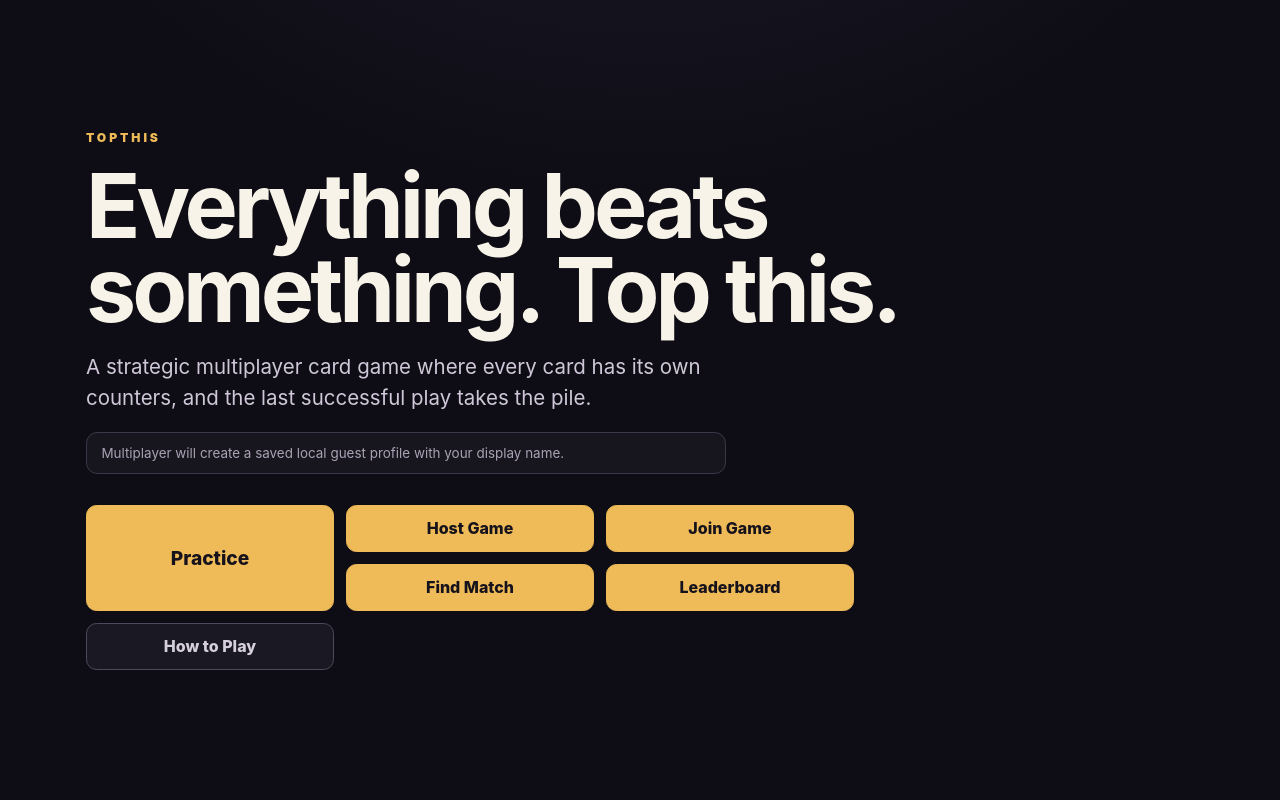
Test: TopThis matchmaking and leaderboard UI › renders six seats and deterministic pile layer transforms
(page scrolled)
Click the button "Practice": (210, 558) [86,505,334,611]
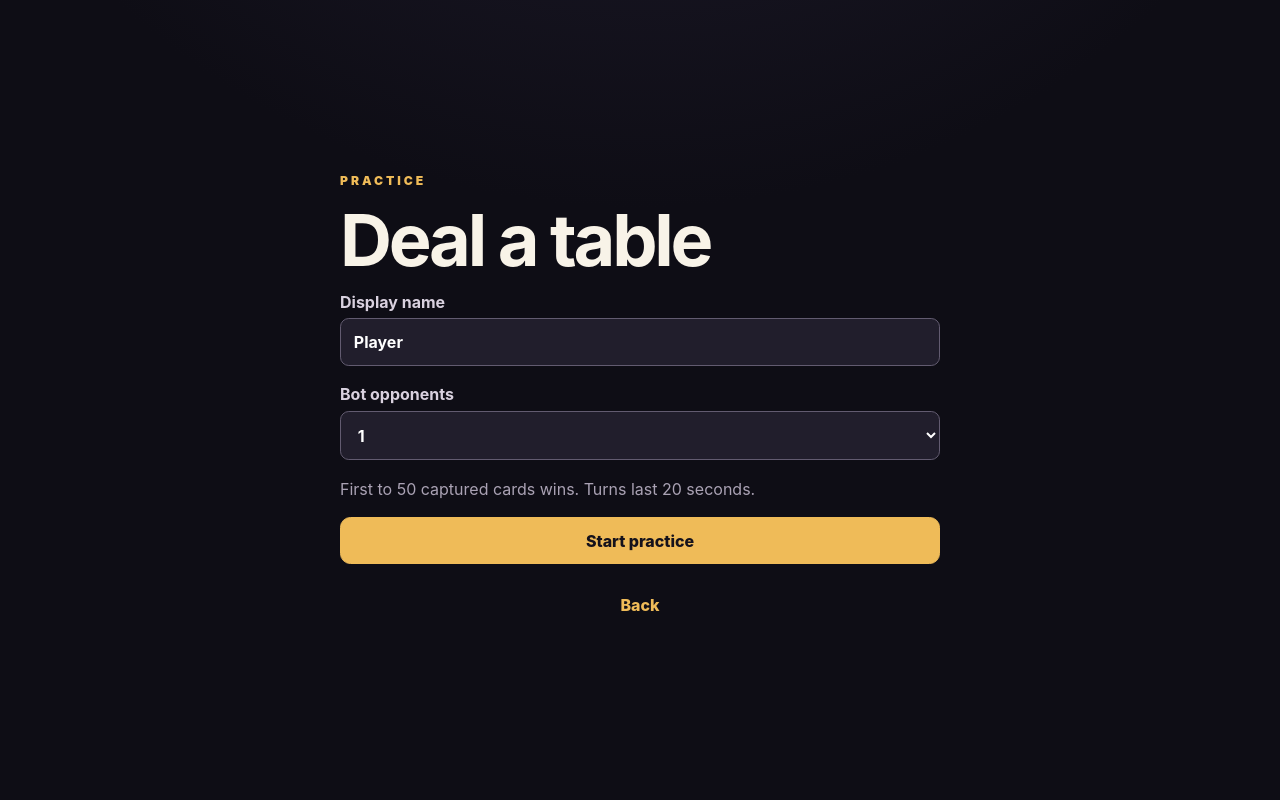
Replace the text in the field labelled "Display name" with "Ada": (640, 342) [340,318,940,366]
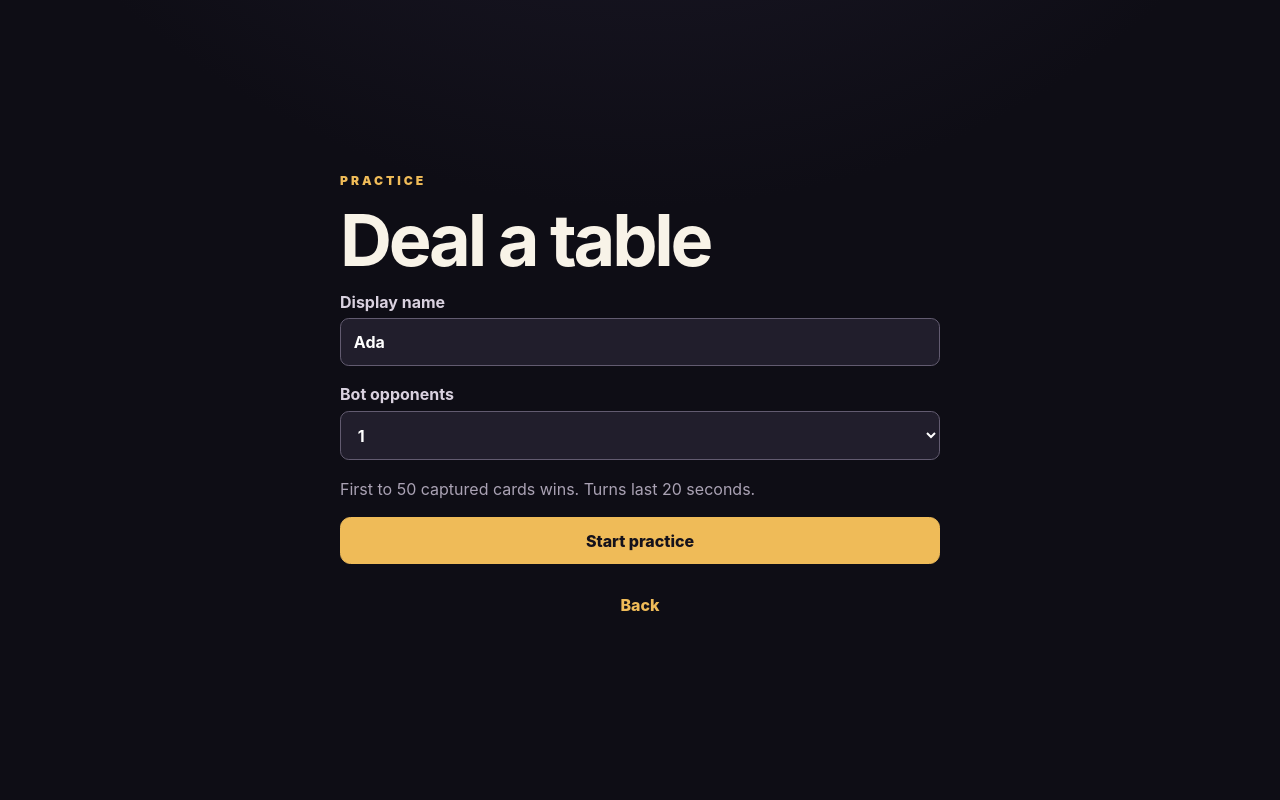
Click the button "Start practice": (640, 541) [340,517,940,564]
(page scrolled)
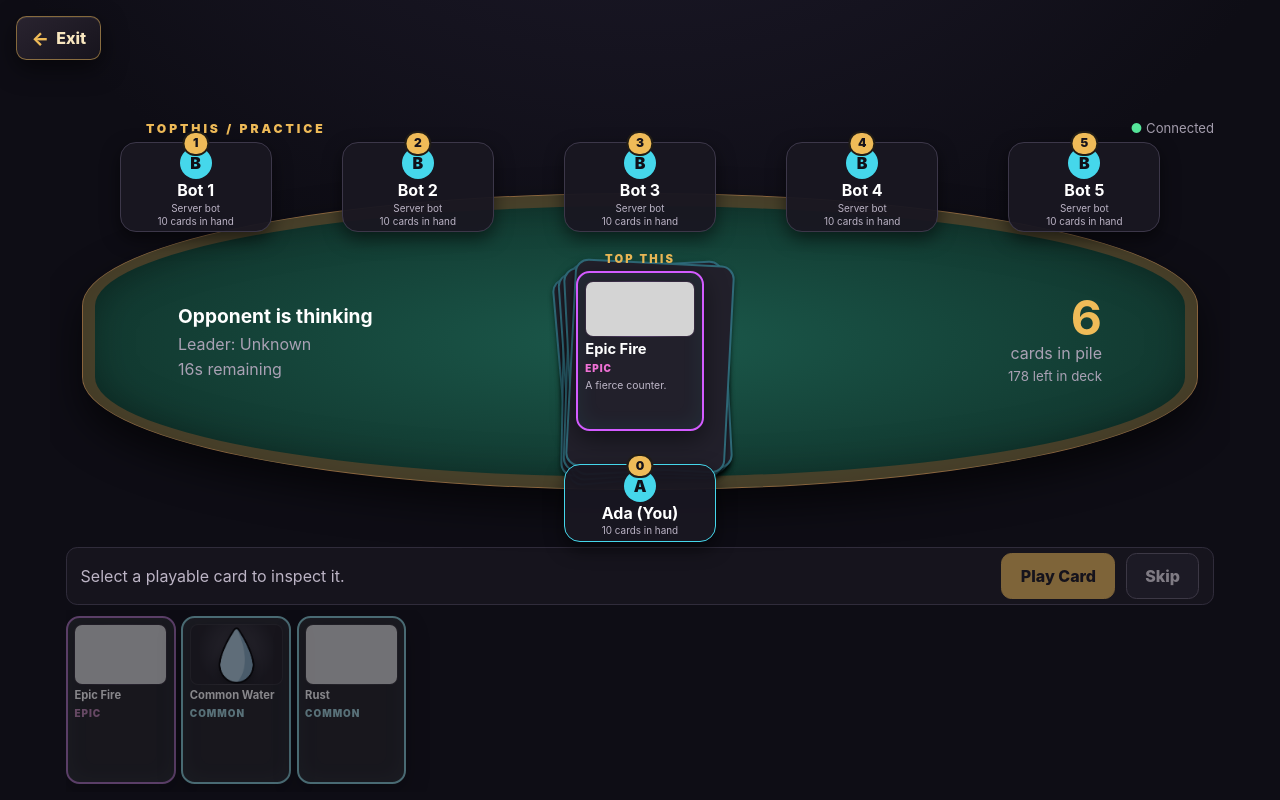
Result: the element with class "challenge-card" is shown at [576,271,704,431]
